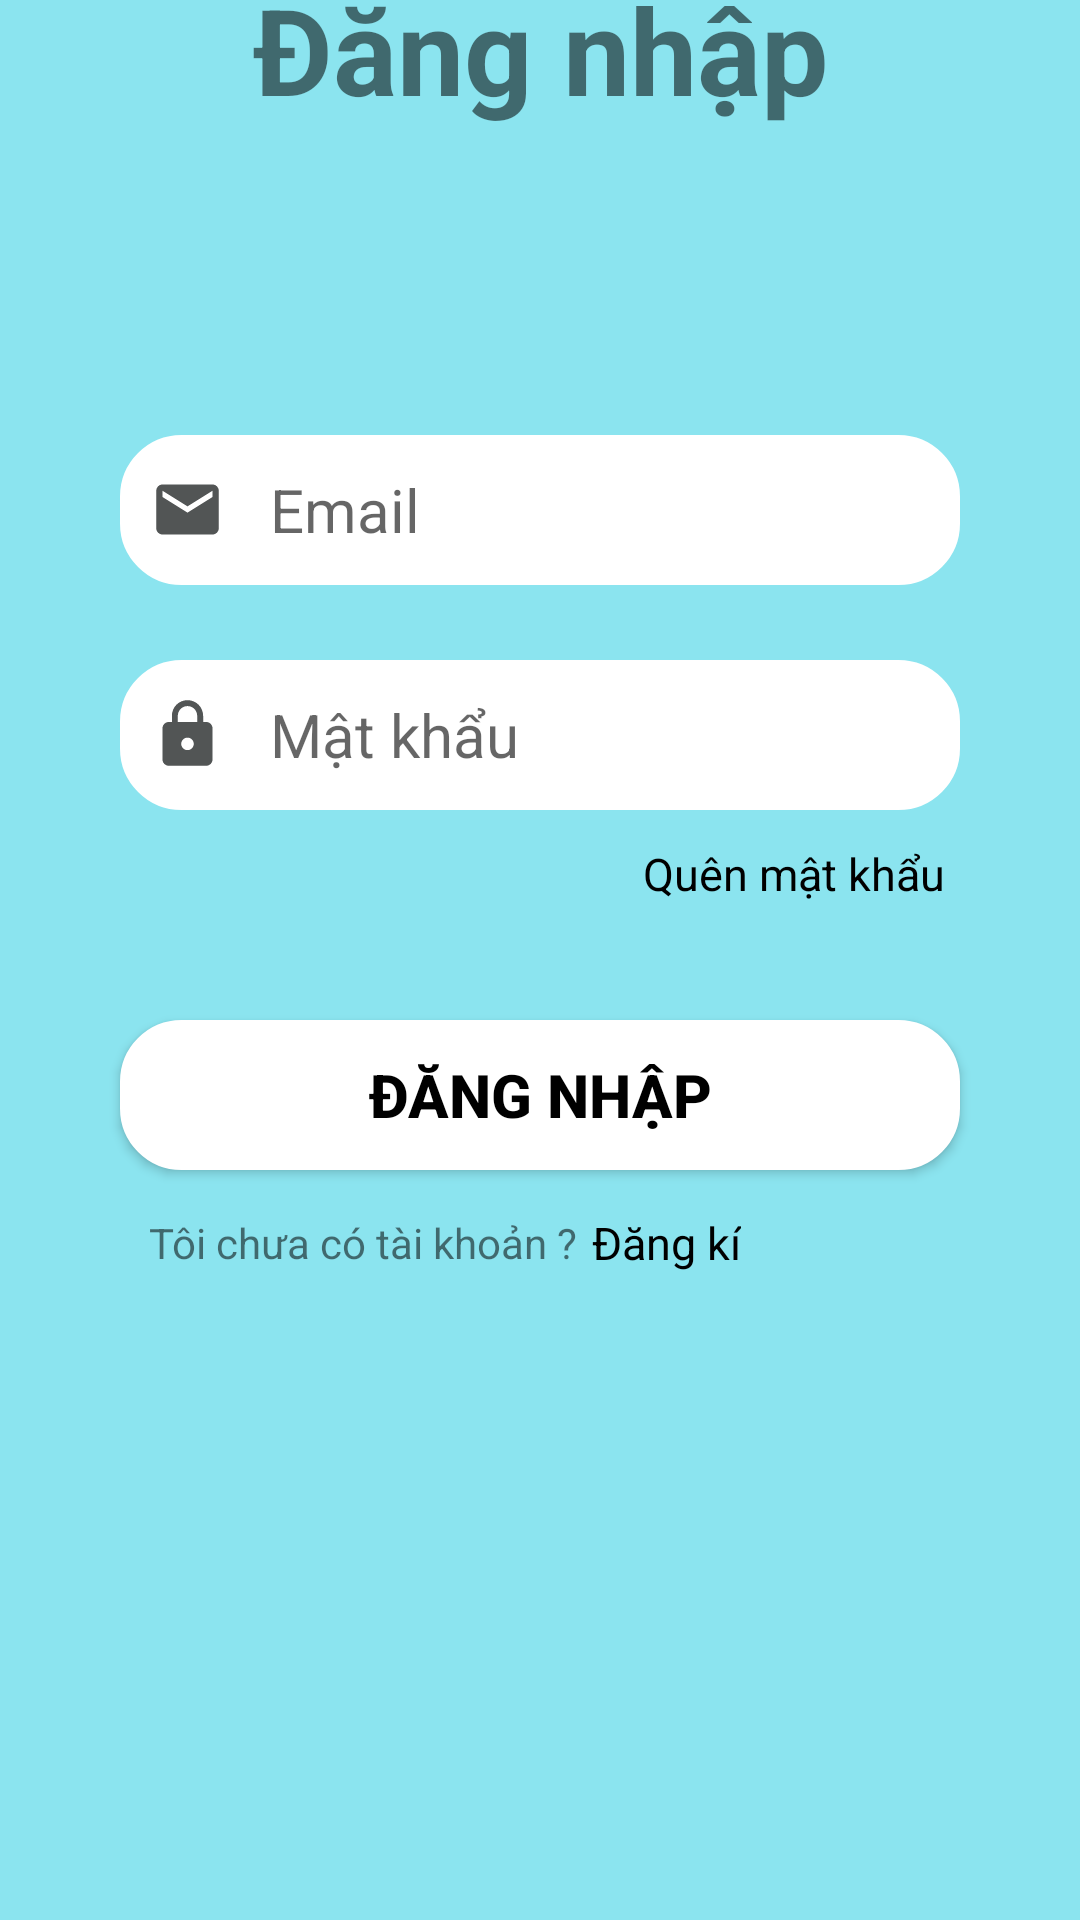

Screen size 1080×1920. Icon name, then its box in pixels as (x1, y1, x2, y2):
password: (162, 700, 213, 766)
